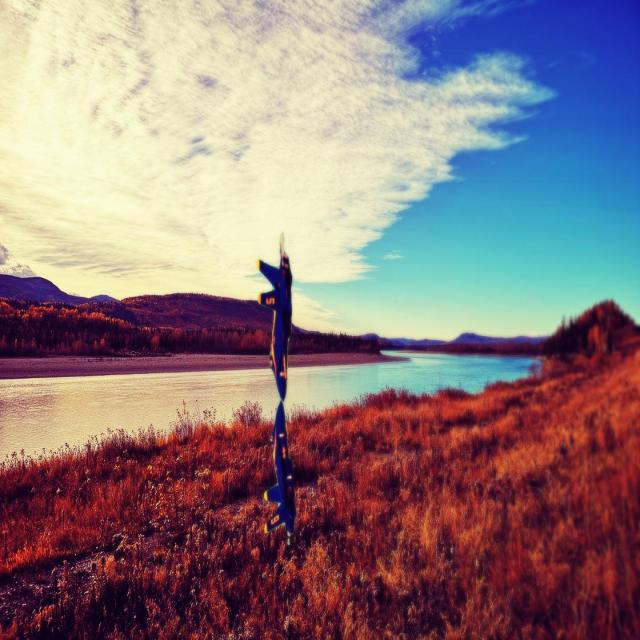airplane: (254, 230, 296, 542)
